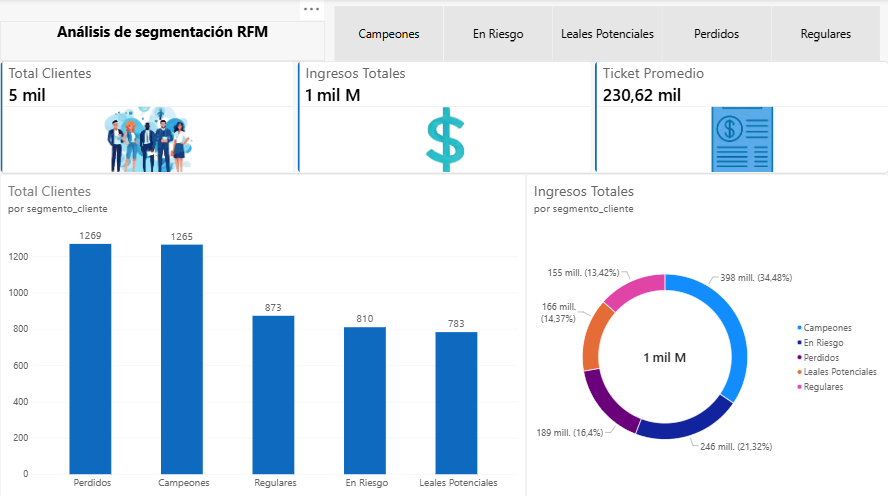

What the dashboard file says about the page in this screenshot:
{"tool":"powerbi","page":{"name":"Página 1","canvas":[1920,1080],"ordinal":0},"visuals":[{"type":"clusteredColumnChart","fields":{"Category":["rfm_resultados.segmento_cliente"],"Y":["rfm_resultados.Total Clientes"]},"box":[0,377.7,1135.6,702.5],"z":0},{"type":"donutChart","fields":{"Category":["rfm_resultados.segmento_cliente"],"Y":["rfm_resultados.Ingresos Totales"]},"box":[1135.6,377.7,784.4,702.5],"z":1000},{"type":"slicer","fields":{"Values":["rfm_resultados.segmento_cliente"]},"box":[702.5,0,1217.5,134.7],"z":2000},{"type":"cardVisual","fields":{"Data":["rfm_resultados.Total Clientes","rfm_resultados.Ingresos Totales","rfm_resultados.Ticket Promedio"]},"box":[0,134.7,1920,243],"z":4000},{"type":"textbox","box":[0,47.5,702.5,87.2],"z":4001}]}

Visuals, with their boxes in screenshot pixels (x1, y1, x2, y2), scaled from the page's 1920x1080 canvas onto the 888x496 screenshot:
clusteredColumnChart - rfm_resultados.segmento_cliente x rfm_resultados.Total Clientes: detection(0, 173, 525, 495)
donutChart - rfm_resultados.segmento_cliente x rfm_resultados.Ingresos Totales: detection(525, 173, 887, 495)
slicer - rfm_resultados.segmento_cliente: detection(325, 0, 887, 62)
cardVisual - rfm_resultados.Total Clientes x rfm_resultados.Ingresos Totales: detection(0, 62, 887, 173)
textbox: detection(0, 22, 325, 62)
